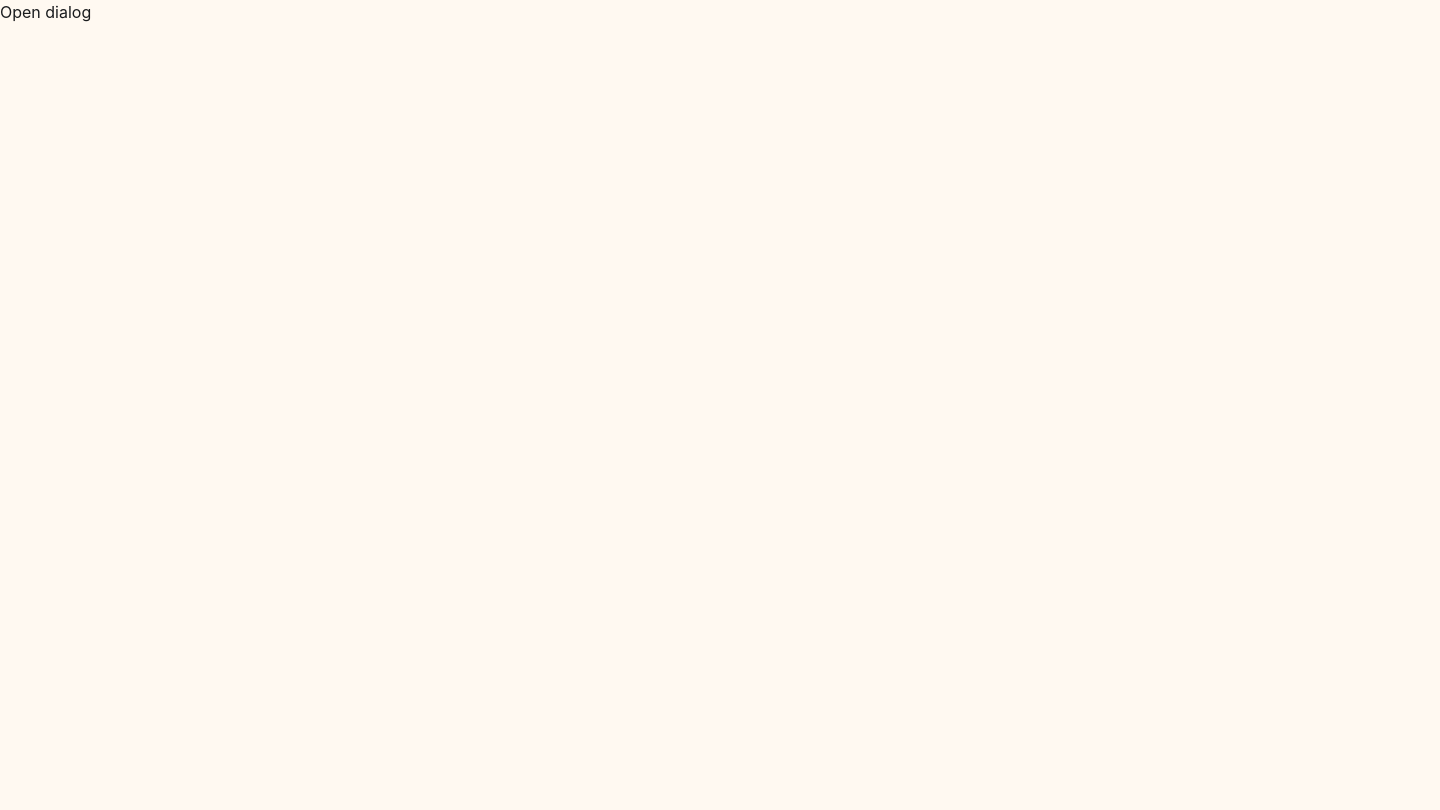
Test: NewCategoryDialog › renders a children trigger uncontrolled and opens the dialog on click
Expected: the text "New category" is not shown
Click the button "Open dialog" at {"x": 46, "y": 12}, box [0,0,91,24]
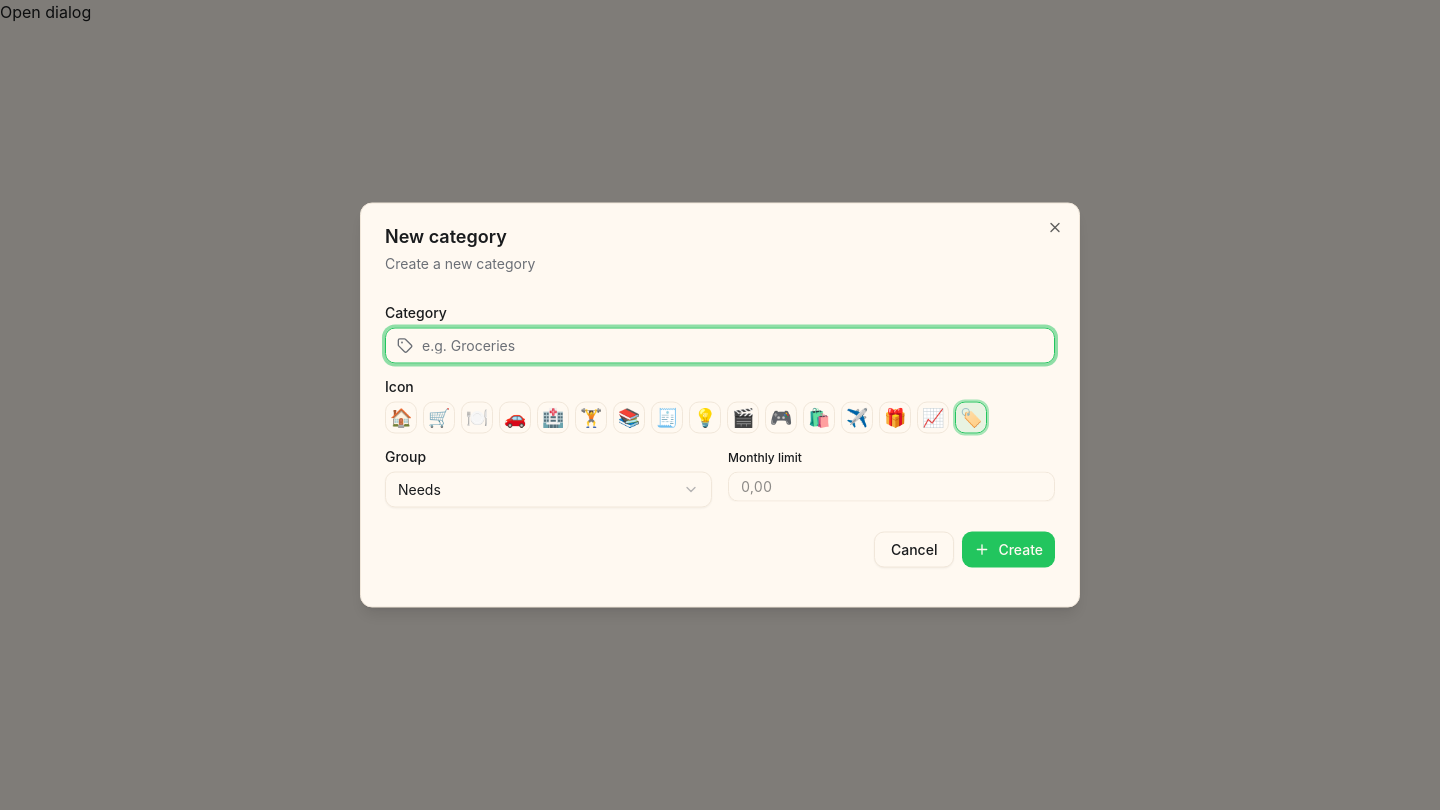
Result: the heading "New category" is shown at [385,226,507,246]
Result: the text "Create a new category" is shown at [385,254,535,272]
